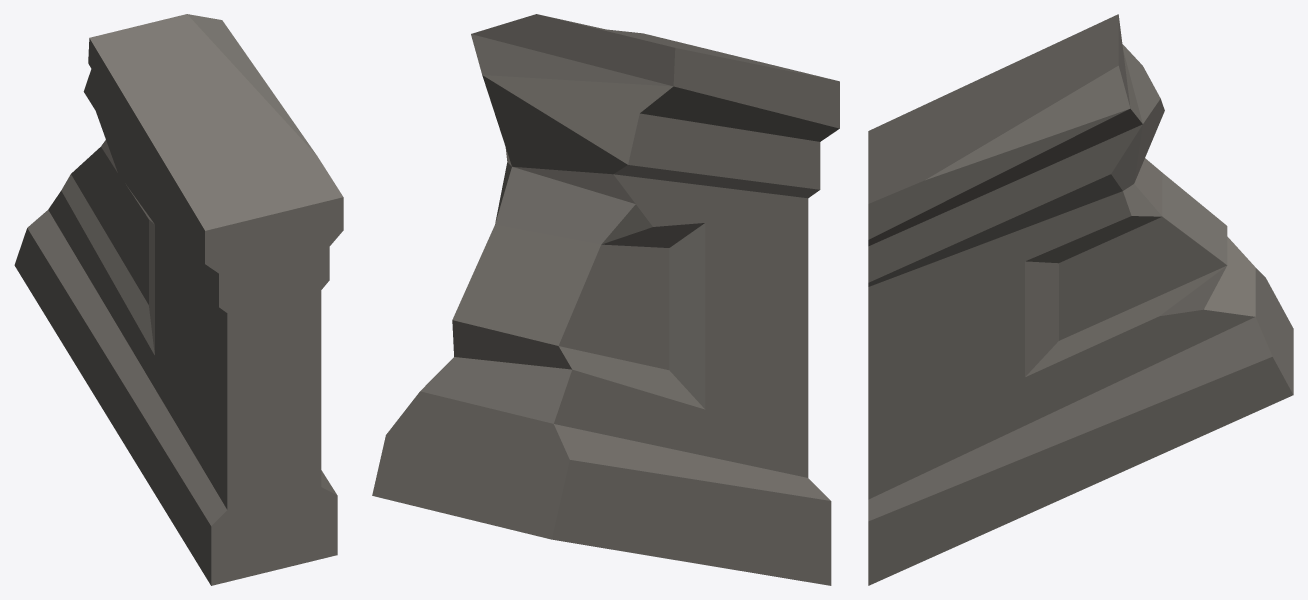
Rendered from SM_Env_Railing_Angle_Broken_01.glb.
The picture shows the model from 3 angles, left to right: view 1: azimuth 30°, elevation 25°; view 2: azimuth 150°, elevation 25°; view 3: azimuth 270°, elevation 25°; orthographic projection. The views are drawn at different scales.
Visible parts, largest first — view 1: SM_Env_Railing_Angle_Broken_01; view 2: SM_Env_Railing_Angle_Broken_01; view 3: SM_Env_Railing_Angle_Broken_01.
Boxes of the visible parts, left/top/right/bottom form: SM_Env_Railing_Angle_Broken_01: left=14, top=14, right=343, bottom=585; SM_Env_Railing_Angle_Broken_01: left=372, top=14, right=839, bottom=585; SM_Env_Railing_Angle_Broken_01: left=868, top=14, right=1293, bottom=585.
Size of the model in its own units: 0.00406 by 0.013 by 0.01.
Materials: 1 (1 with a texture image).
